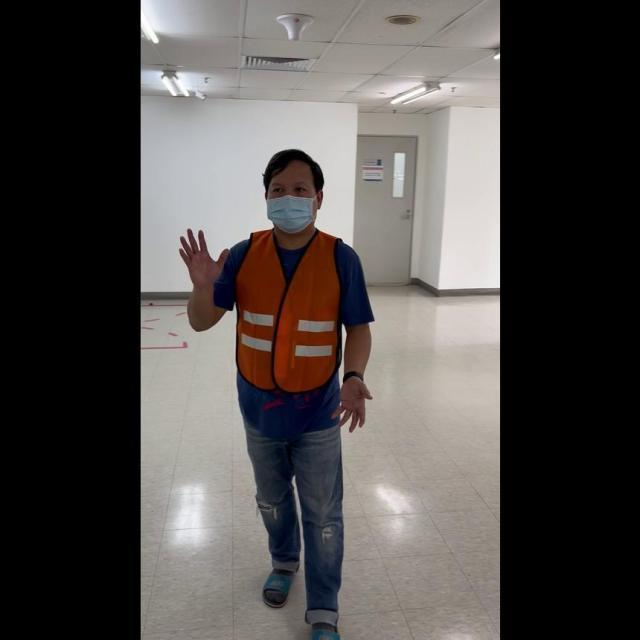bare_hand: (176, 223, 227, 286), (330, 371, 371, 433)
